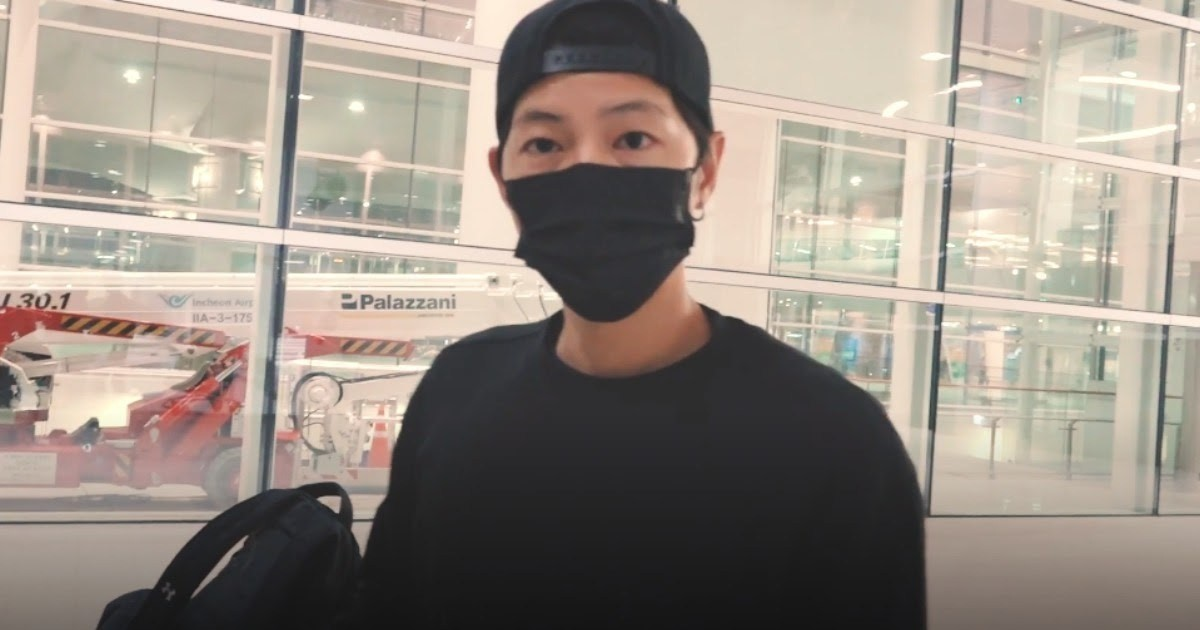face_with_mask: (482, 0, 718, 323)
